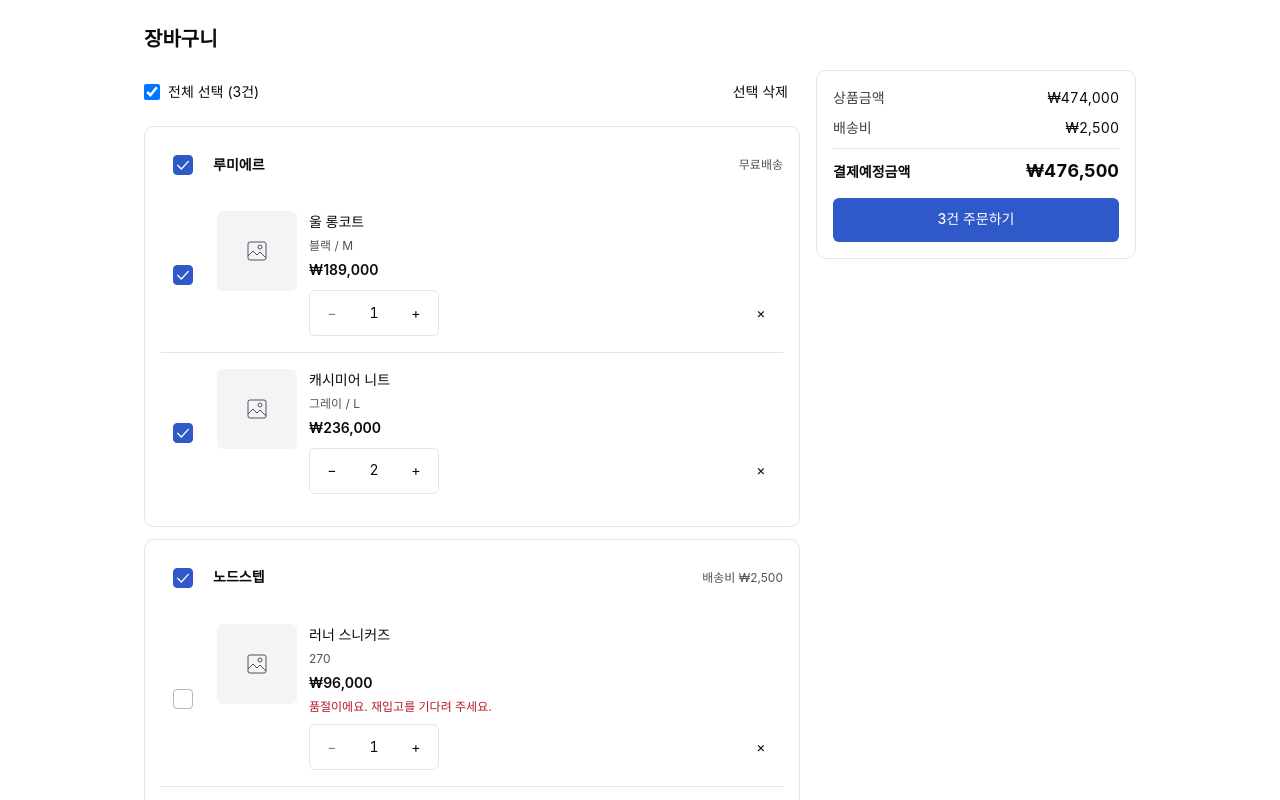
Test case: 선택과 합계 (F2 · F4) › moves the total when a quantity changes
The image size is (1280, 800).
Click the button named "수량 늘리기": {"x": 416, "y": 471} [394,449,438,493]
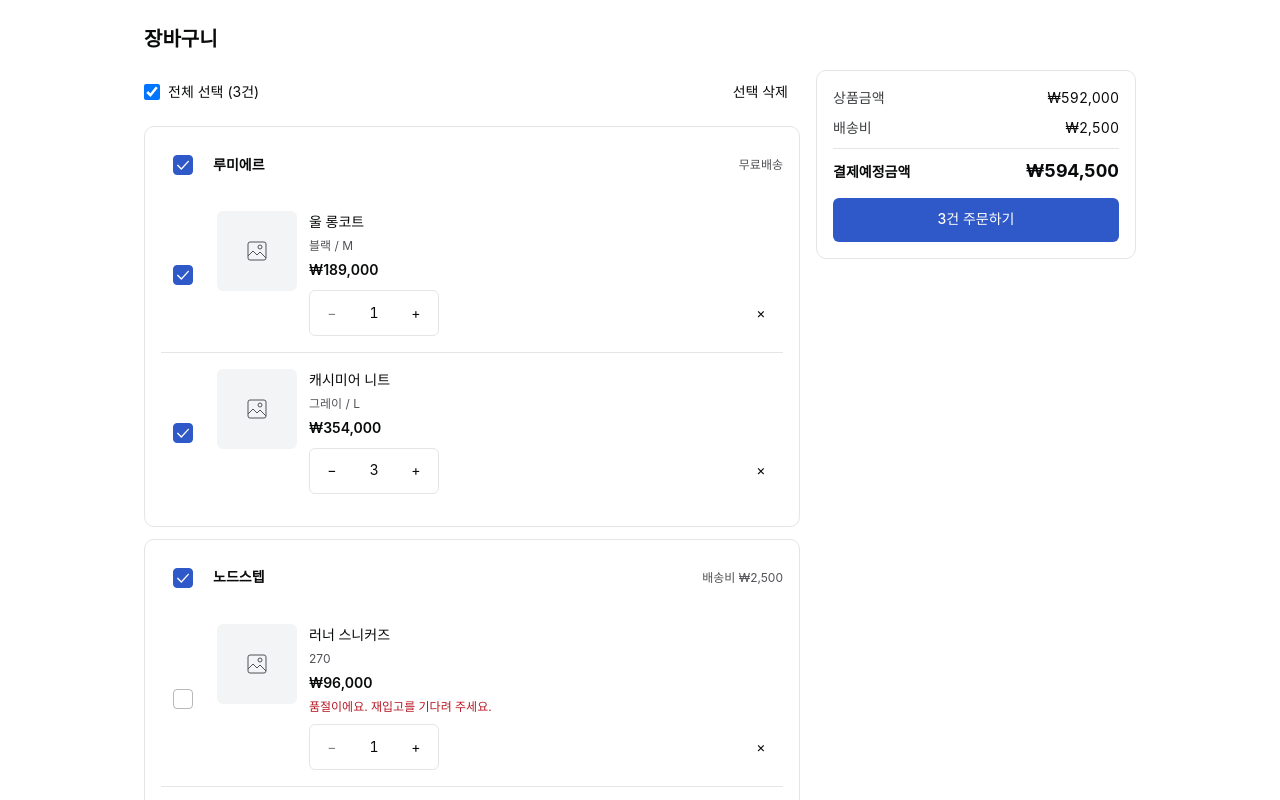
Check: the text "₩592,000" is shown, box [1047,87,1119,109]
Check: the text "₩594,500" is shown, box [1026,157,1119,186]
